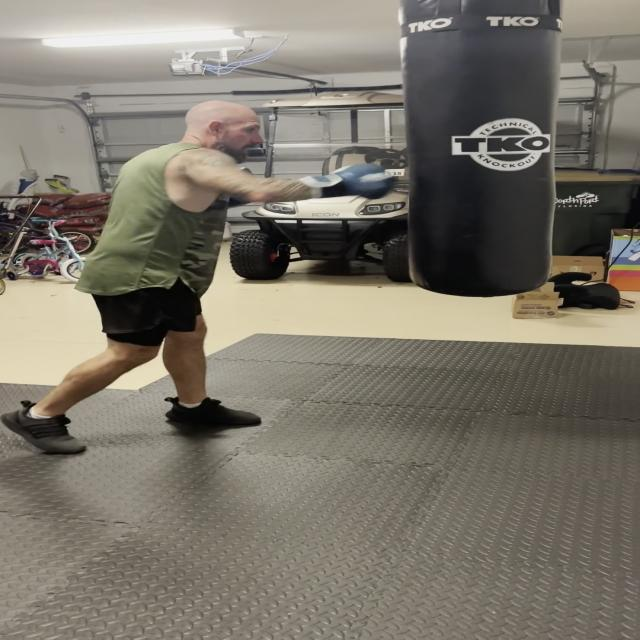punch: (100, 64, 426, 226)
